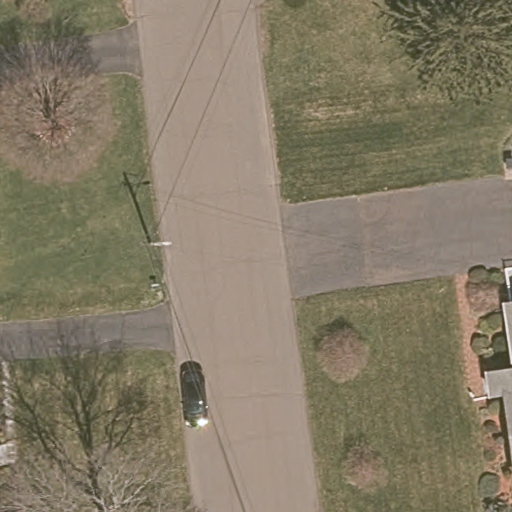DT: (138, 214, 172, 248)
